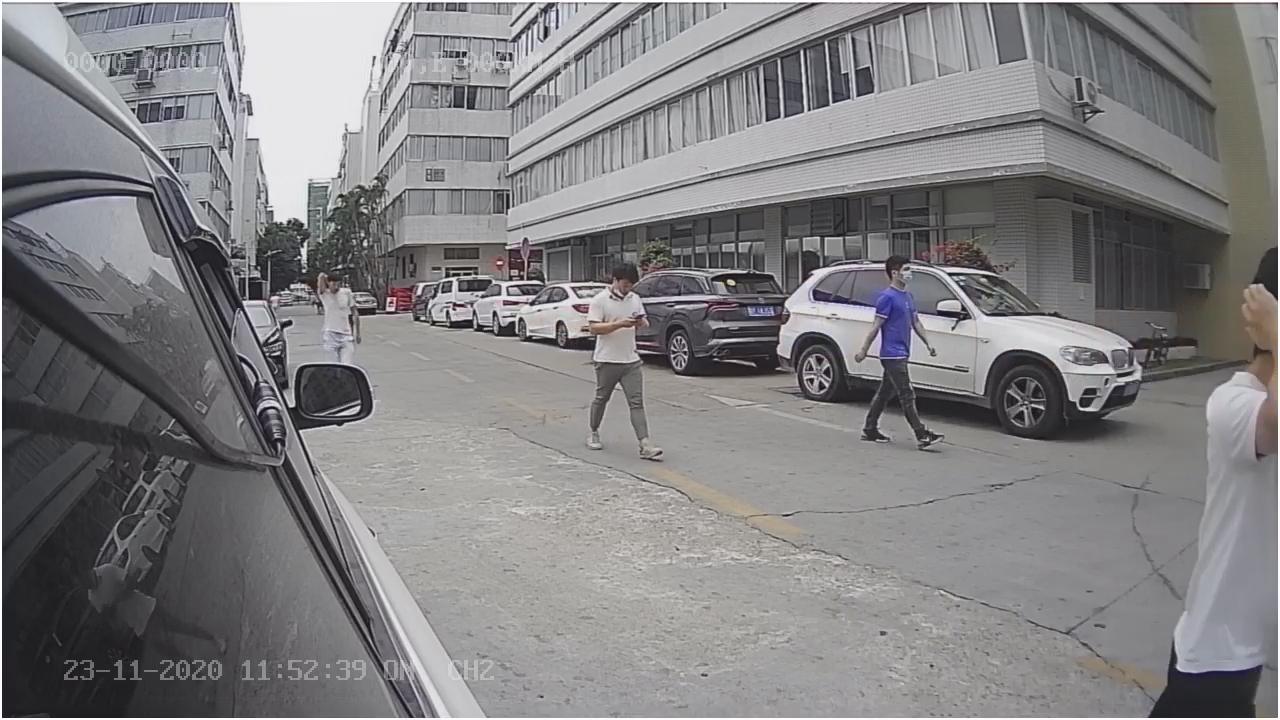person: (580, 257, 662, 465)
